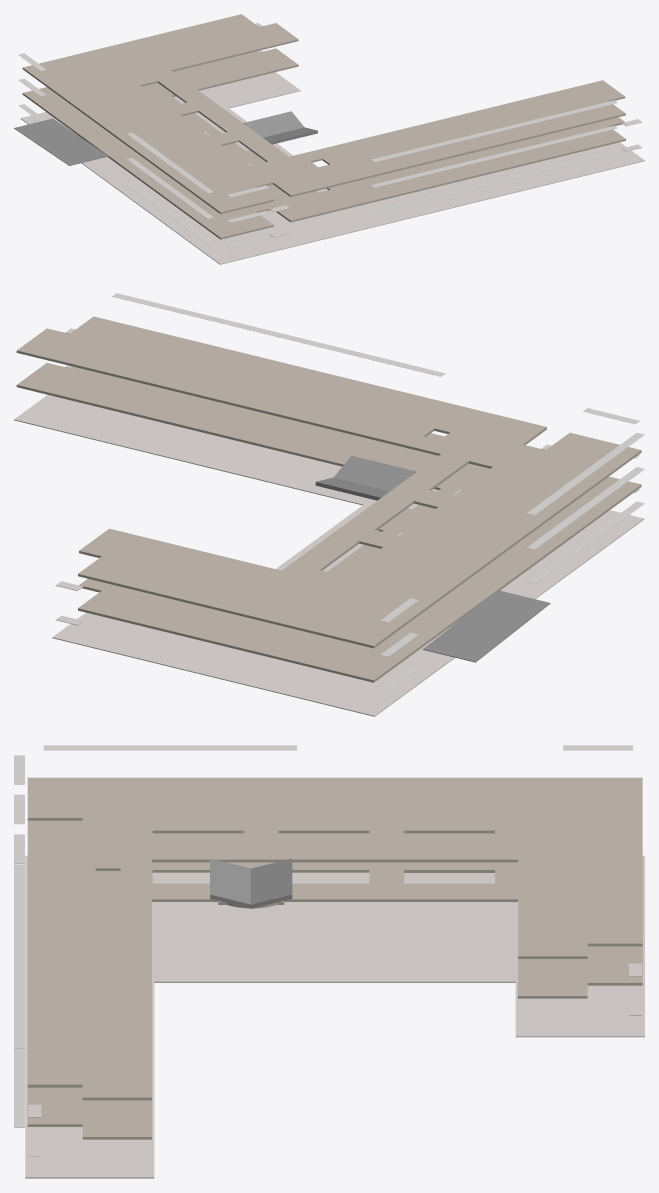
File: model-part.gltf_slabs_allFloors.gltf
3 renders of one model, top to bottom at view 1: azimuth 30°, elevation 25°; view 2: azimuth 150°, elevation 25°; view 3: azimuth 270°, elevation 25°, orthographic. The views are drawn at different scales.
Size of the model in its own units: 72.84 by 10.29 by 55.08.
